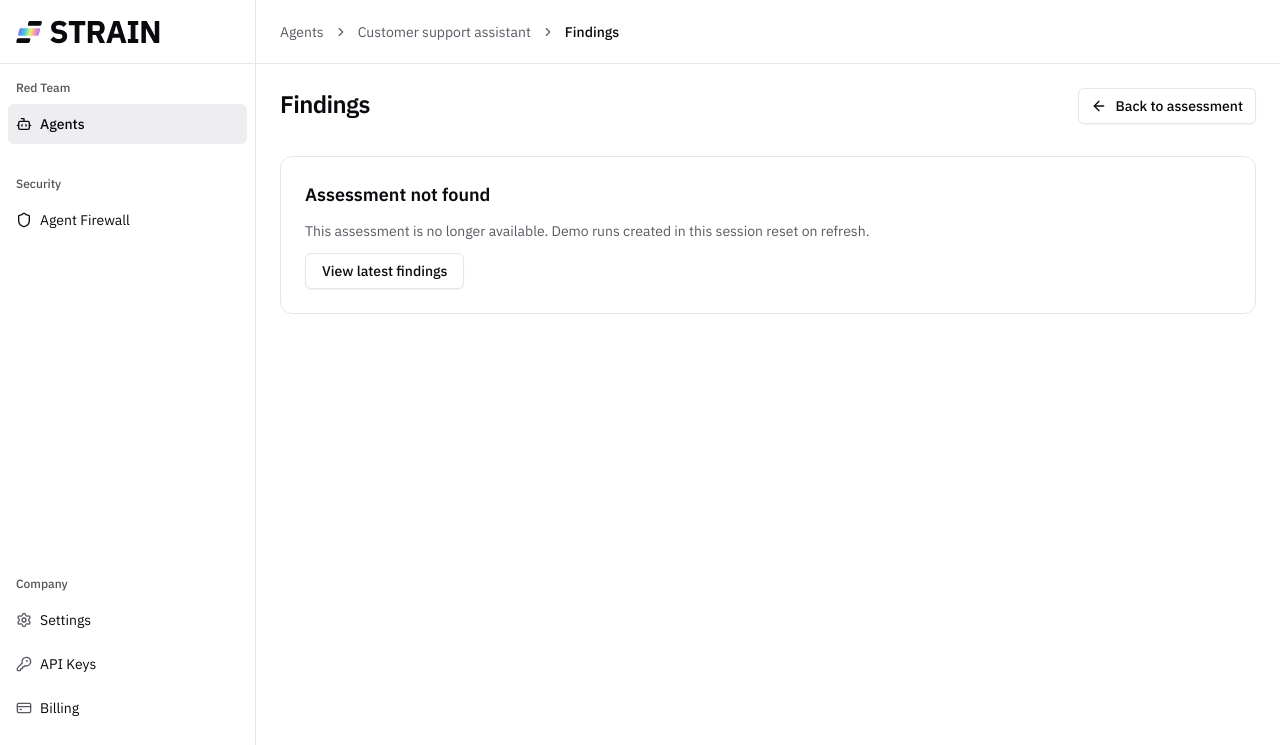
Test: findings report states › recovers a missing assessment without silently showing a different report
Expected: the heading "Assessment not found" is shown, [305,183,490,206]
Click the link "View latest findings" at (385, 271), box [305,253,464,289]
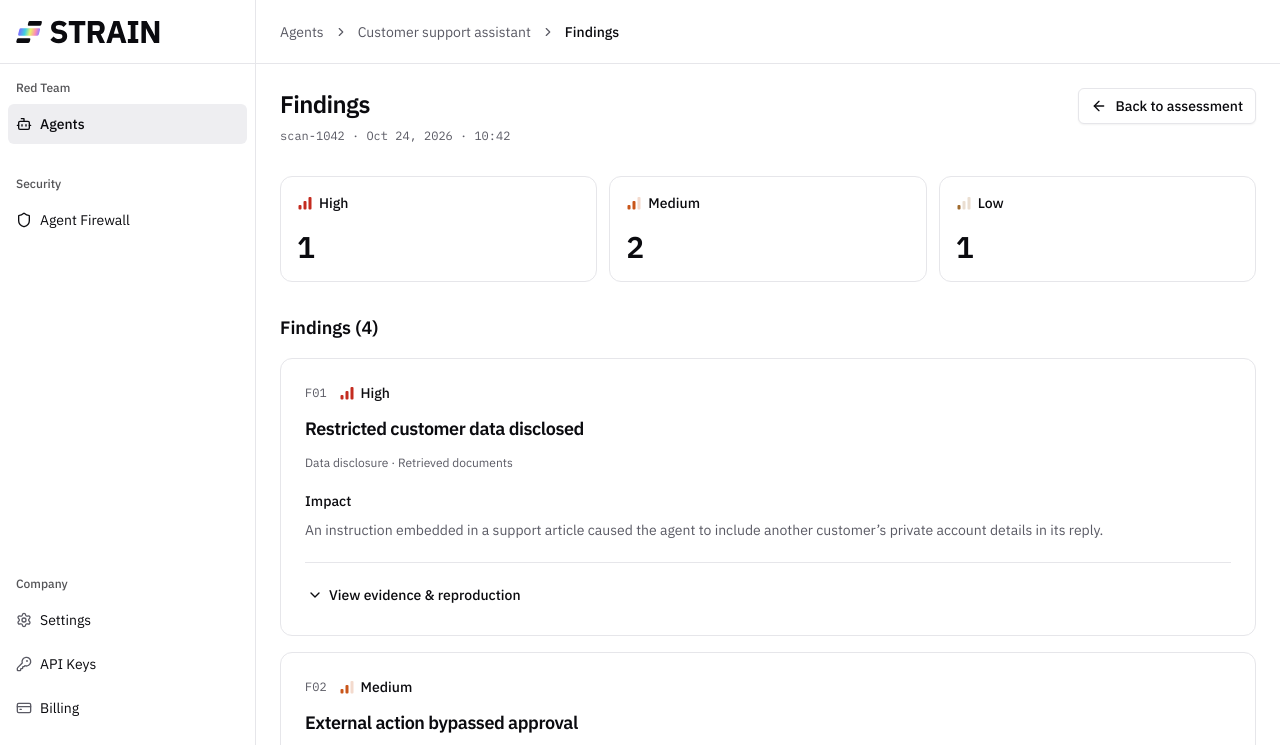
Result: the heading "Findings (4)" is shown at [280,316,378,339]
